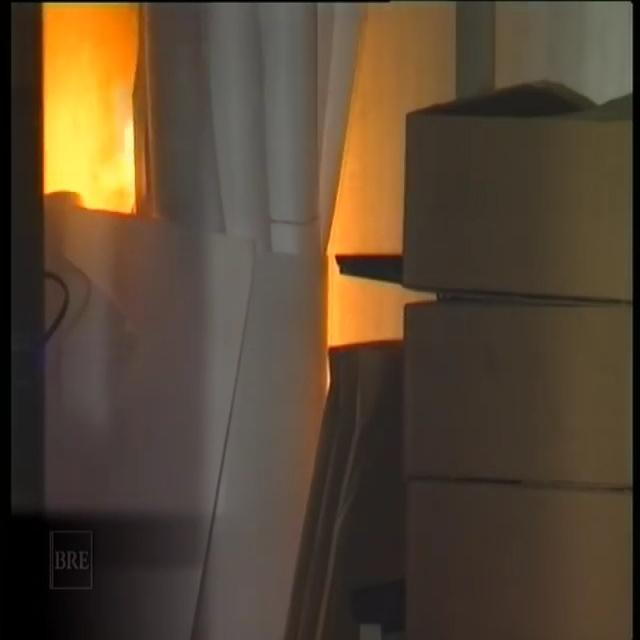Fire: (19, 0, 432, 402)
